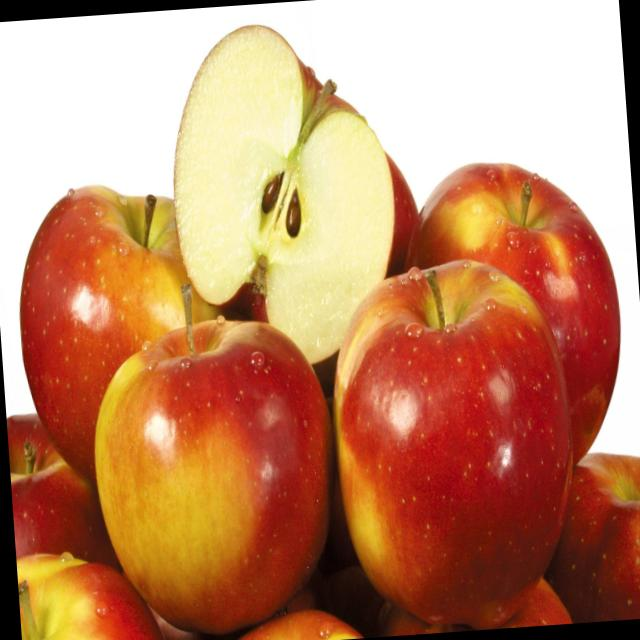Apel: (322, 251, 586, 636), (83, 295, 346, 640), (161, 14, 406, 376), (397, 152, 630, 476), (10, 175, 232, 490), (6, 407, 120, 577), (538, 447, 640, 623), (16, 543, 169, 640), (375, 574, 572, 636), (378, 148, 423, 276), (227, 605, 363, 640), (497, 573, 572, 627), (6, 409, 66, 476)
